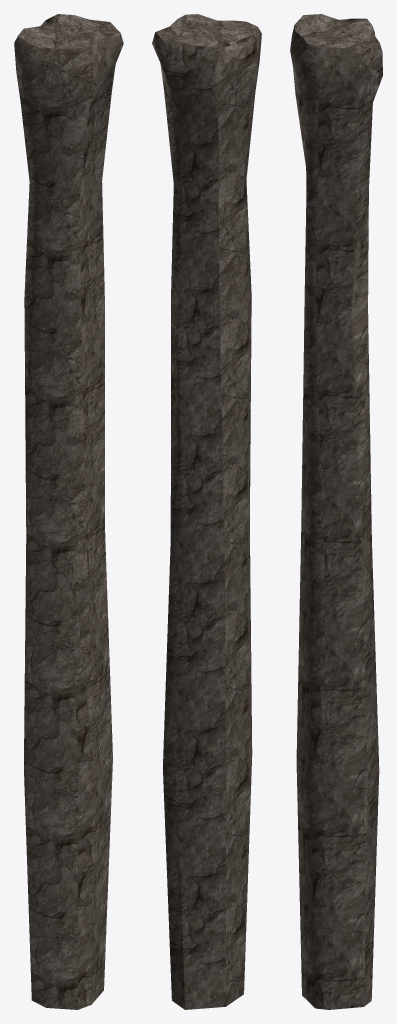
File: cliffffffff.fbx
3 views of the same model, side by side, from view 1: azimuth 30°, elevation 25°; view 2: azimuth 210°, elevation 25°; view 3: azimuth 330°, elevation 25° (orthographic).
Visible parts, largest first — view 1: Cliff_01.002; view 2: Cliff_01.002; view 3: Cliff_01.002.
Part boxes in pixels (left/top/right/bottom): Cliff_01.002: left=14, top=14, right=123, bottom=1009; Cliff_01.002: left=152, top=14, right=261, bottom=1009; Cliff_01.002: left=290, top=14, right=382, bottom=1009.
Bounding box in the file's own units: 1158 × 11887 × 1000.
Materials: 1 (1 with a texture image).
